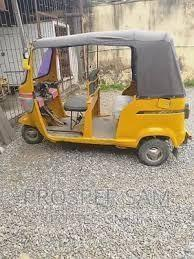keke: (17, 28, 194, 168)
